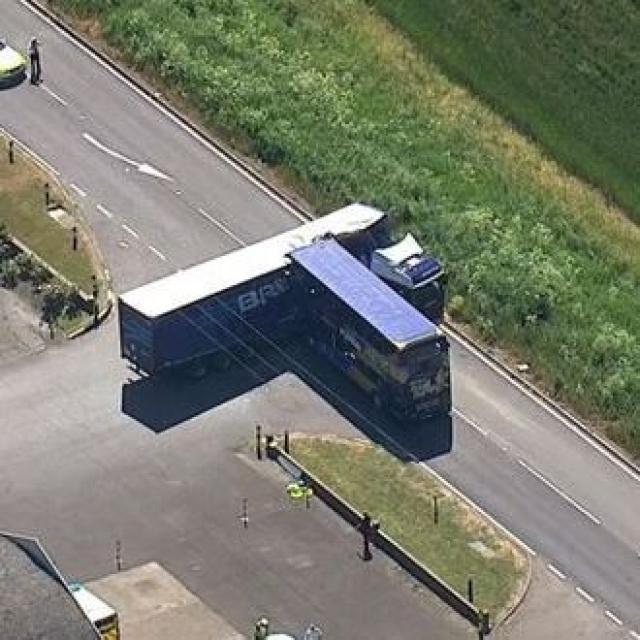traffic_incident: (101, 190, 465, 417)
